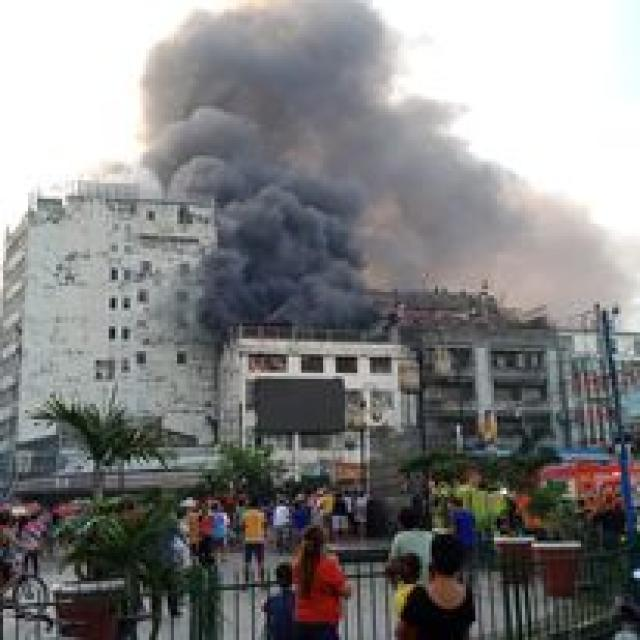Smoke: (126, 0, 485, 342)
